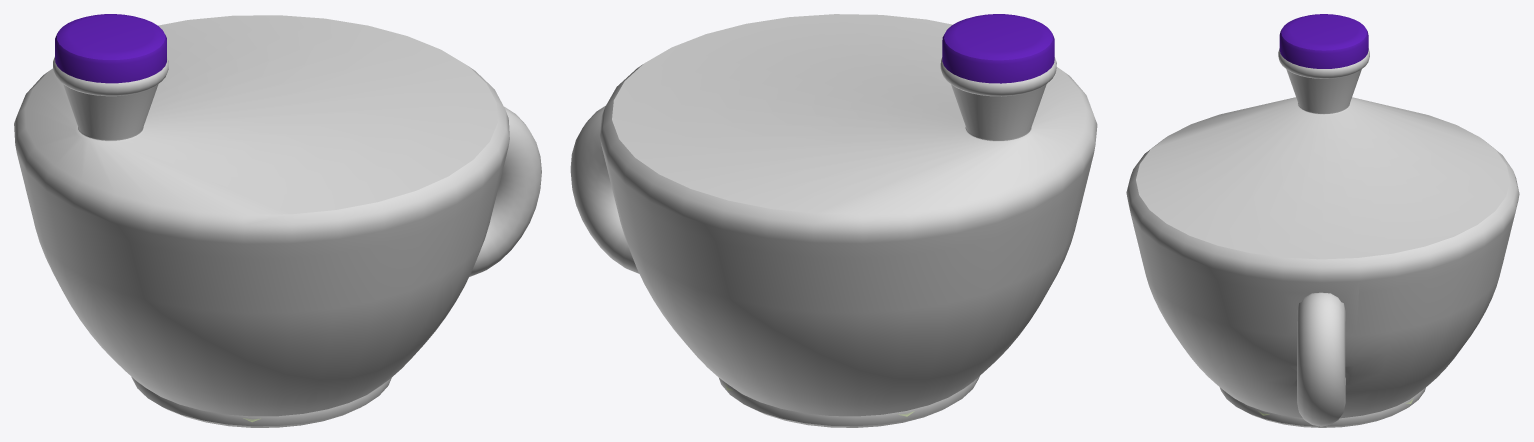
File: bottle.glb
The picture shows the model from 3 angles, left to right: view 1: azimuth 30°, elevation 25°; view 2: azimuth 150°, elevation 25°; view 3: azimuth 270°, elevation 25°; orthographic projection. The views are drawn at different scales.
Parts seen in each view (by area): view 1: bottle, cap; view 2: bottle, cap; view 3: bottle, cap.
Part boxes in pixels (x1,y1,x2,y2): bottle: [14, 15, 541, 427]; cap: [55, 14, 166, 83]; bottle: [570, 14, 1097, 427]; cap: [942, 14, 1054, 83]; bottle: [1126, 48, 1519, 427]; cap: [1279, 14, 1368, 68].
Bounding box in the file's own units: 0.2737 × 0.2015 × 0.2404.
